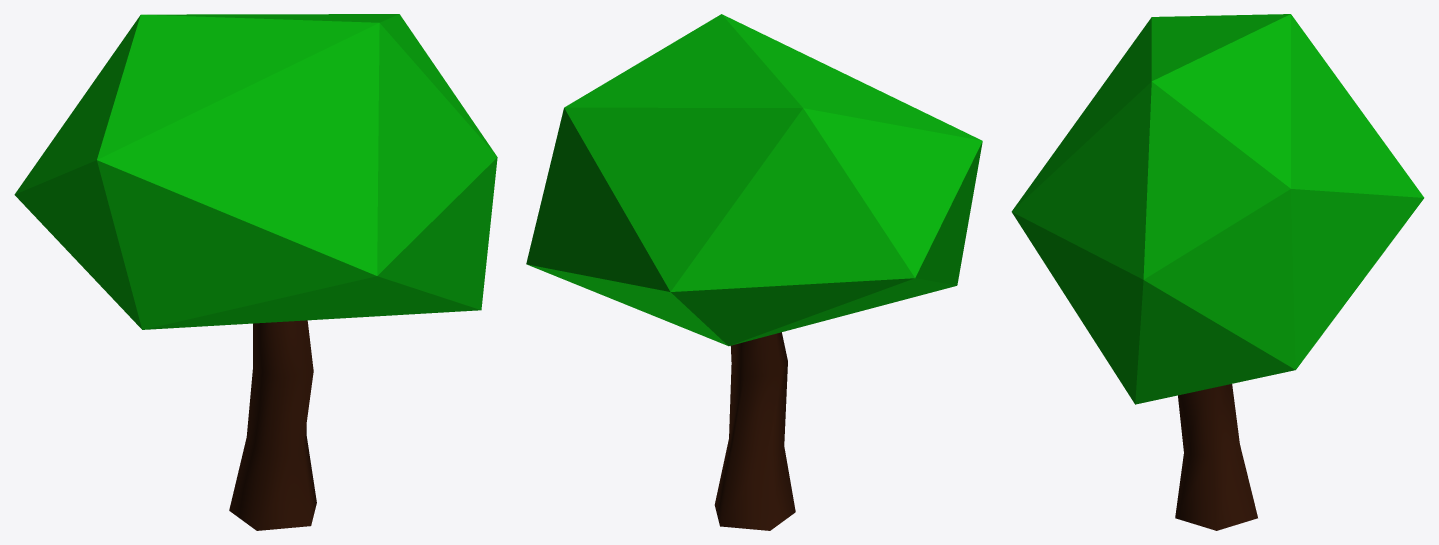
The model's file is Tree 1.FBX.
The picture shows the model from 3 angles, left to right: view 1: azimuth 30°, elevation 25°; view 2: azimuth 150°, elevation 25°; view 3: azimuth 270°, elevation 25°; orthographic projection. The views are drawn at different scales.
Visible parts, largest first — view 1: Tree round12, Treetrunk12; view 2: Tree round12, Treetrunk12; view 3: Tree round12, Treetrunk12.
Part boxes in pixels (x1,y1,x2,y2): Tree round12: [14, 14, 497, 329]; Treetrunk12: [229, 320, 316, 530]; Tree round12: [526, 14, 982, 346]; Treetrunk12: [714, 332, 795, 530]; Tree round12: [1011, 14, 1424, 404]; Treetrunk12: [1175, 384, 1257, 530].
Size of the model in its own units: 37.96 by 42.98 by 34.82.
